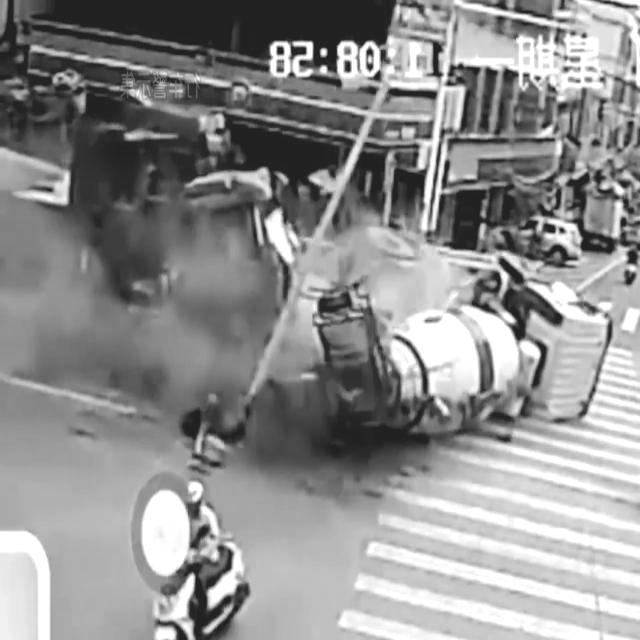accident: (1, 98, 612, 474)
non-accident: (484, 180, 622, 266)
